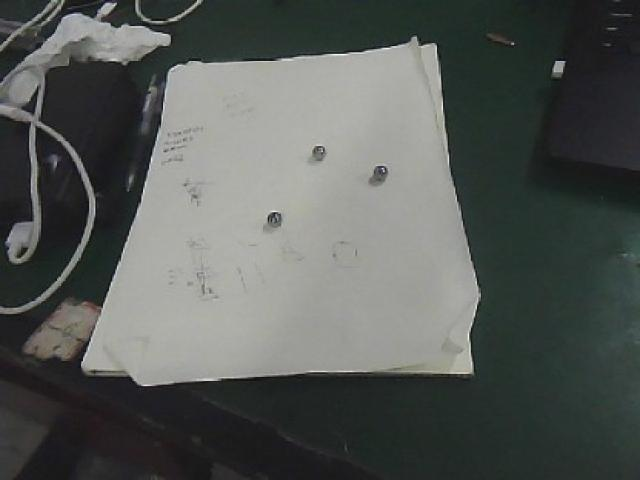steel-ball: (362, 154, 391, 191), (260, 205, 289, 240), (308, 134, 330, 161)
